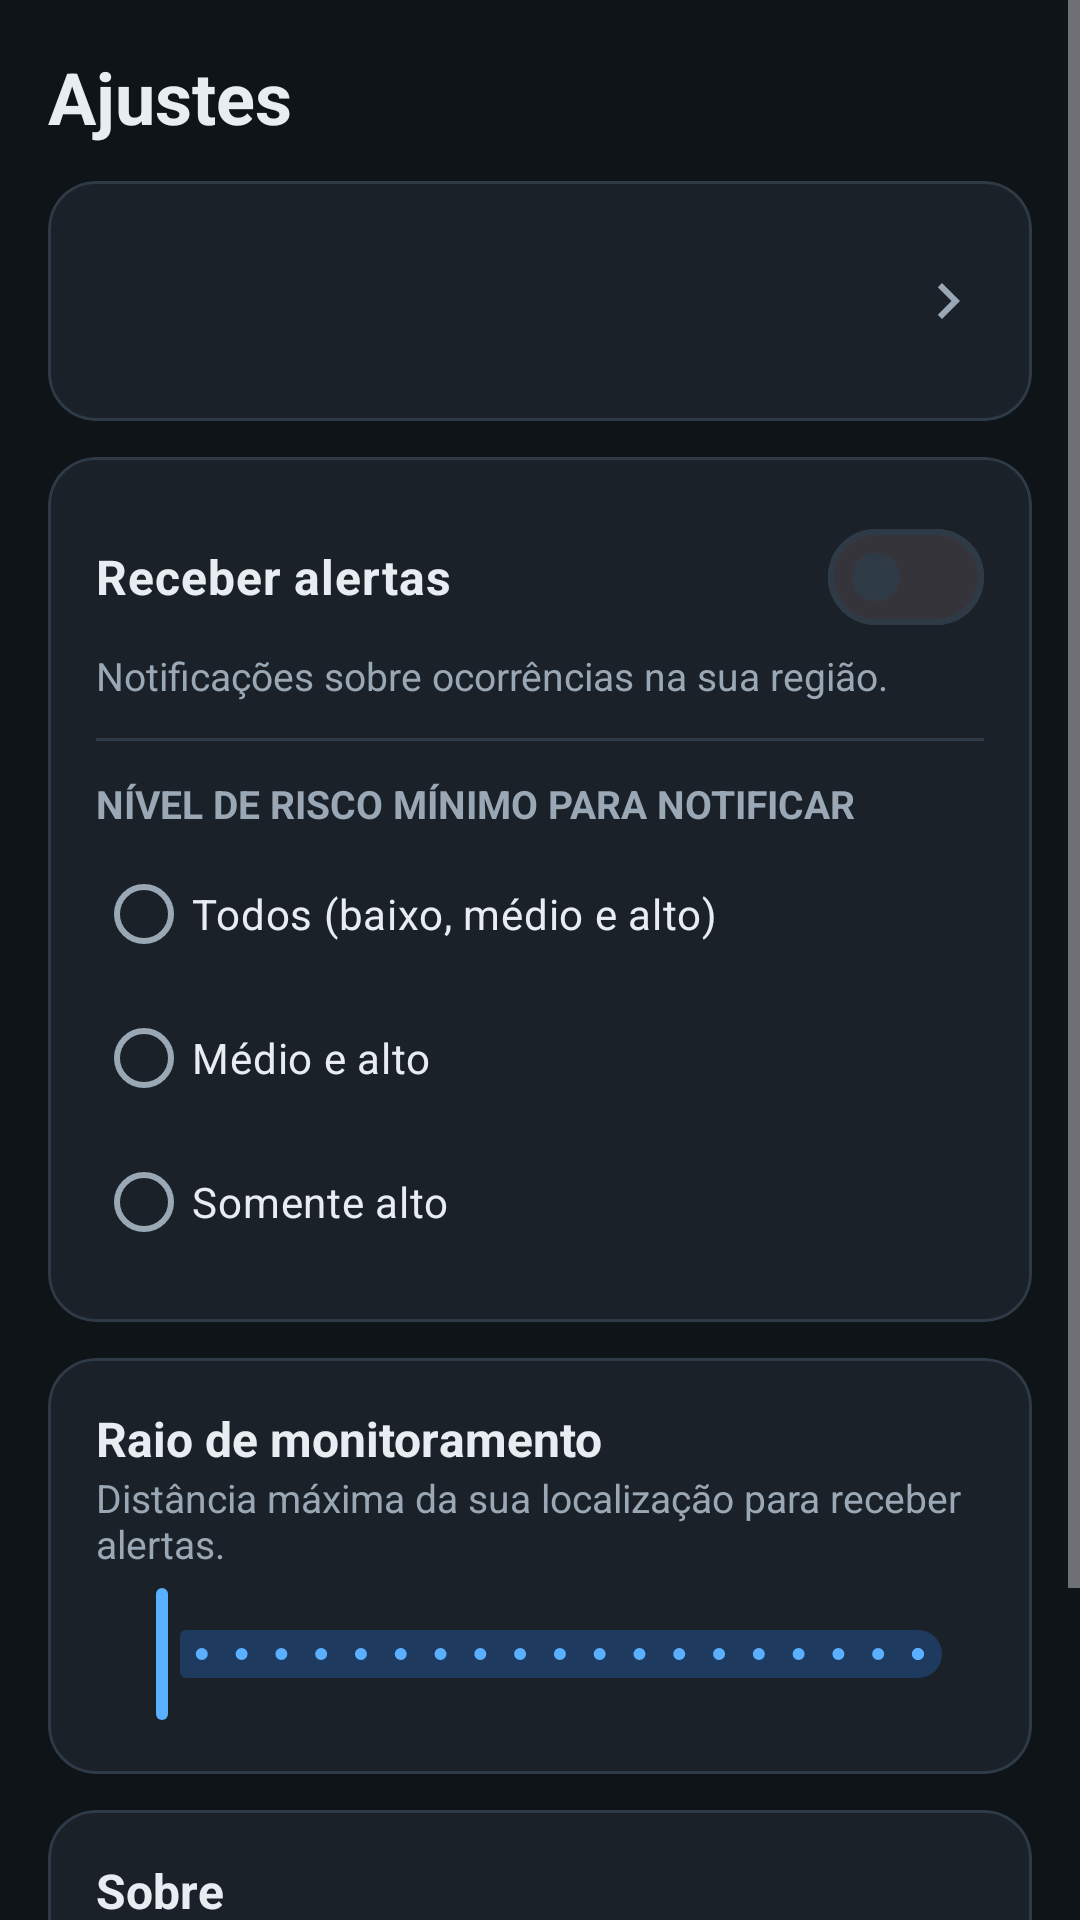

Named icons in this screenshot (1080 × 1920) and their centers, (x=x, y=y):
seta direita: (x=949, y=301)
